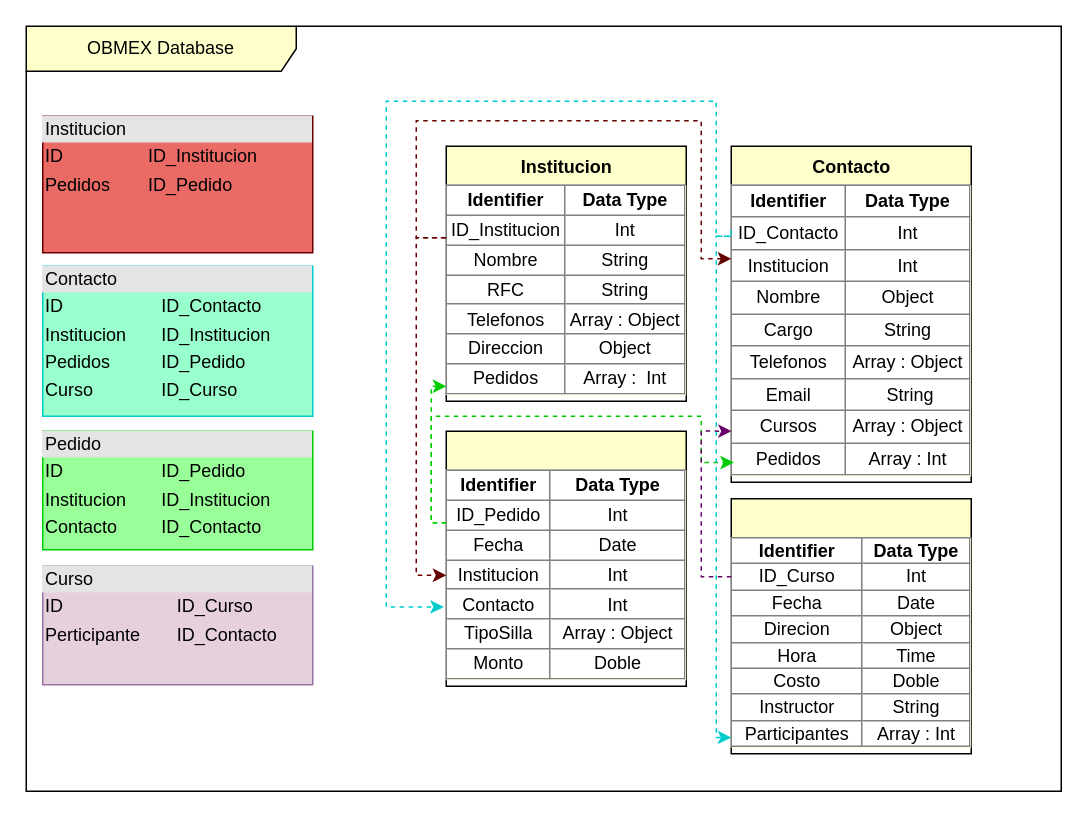
The diagram is 1088 pixels wide and 818 high, and some of its shapes have lost their labels. The shapes that lost their labels are listed below. From the top down, each one's box as (x1, y1, x2, y2) in pixels, then its label:
(445, 430, 686, 686): Pedidos
(730, 497, 971, 754): Cursos
